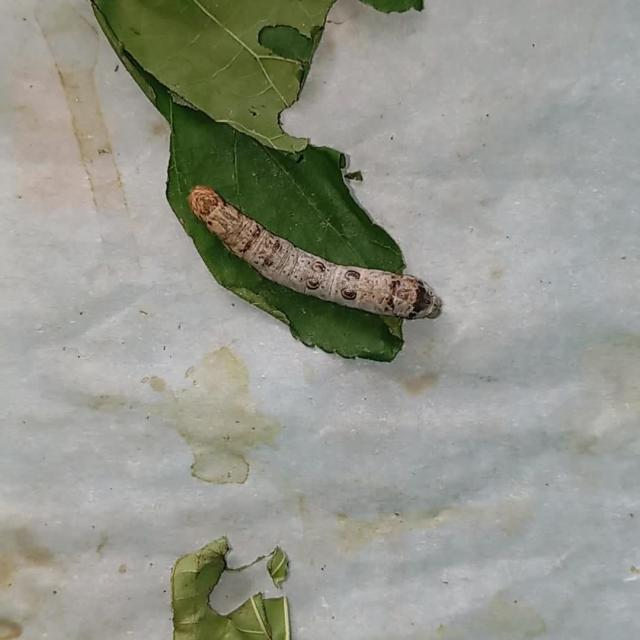Grasserie: (171, 130, 452, 364)
